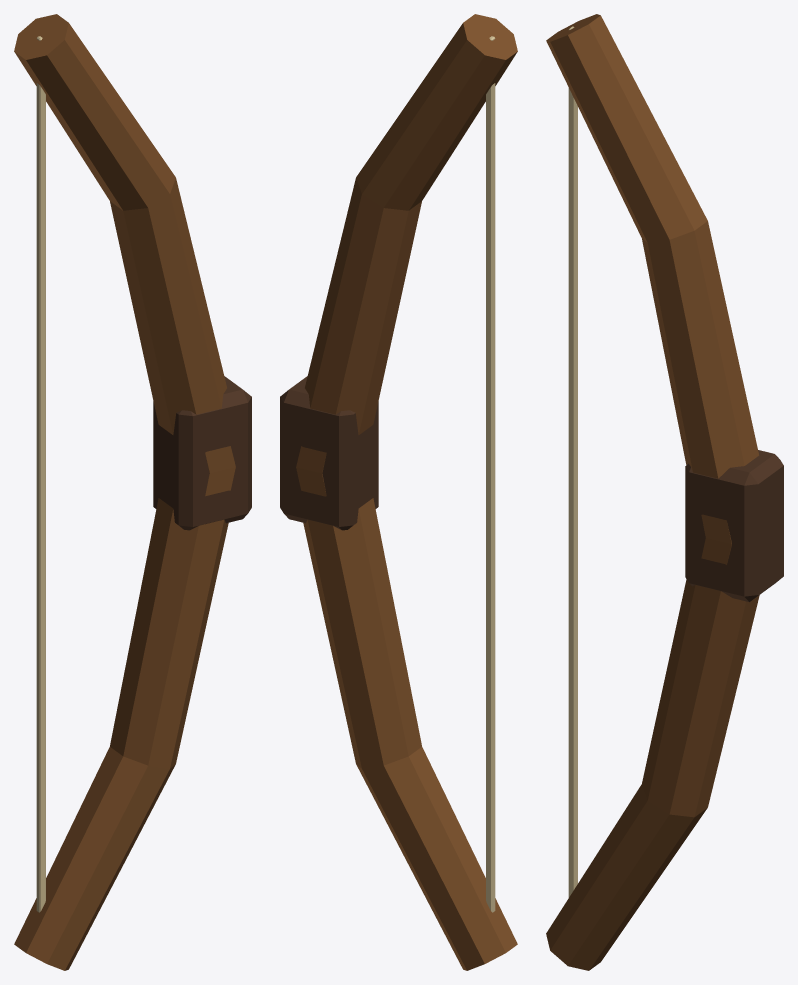
File: SM_NPC_Mainhand_02_Bow.glb
3 views of the same model, side by side, from view 1: azimuth 30°, elevation 25°; view 2: azimuth 150°, elevation 25°; view 3: azimuth 330°, elevation 25° (orthographic).
Parts seen in each view (by area): view 1: SM_NPC_Mainhand_02_Bow; view 2: SM_NPC_Mainhand_02_Bow; view 3: SM_NPC_Mainhand_02_Bow.
Boxes of the visible parts, x1,y1,x2,y2 form: SM_NPC_Mainhand_02_Bow: (14,14,251,970); SM_NPC_Mainhand_02_Bow: (280,14,517,970); SM_NPC_Mainhand_02_Bow: (546,14,783,970).
Bounding box in the file's own units: 0.1945 × 0.8028 × 0.0554.
